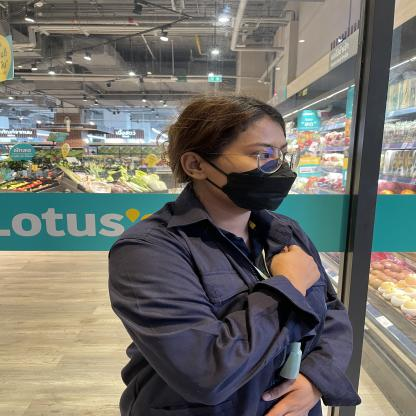Sadness: (142, 237, 347, 360)
